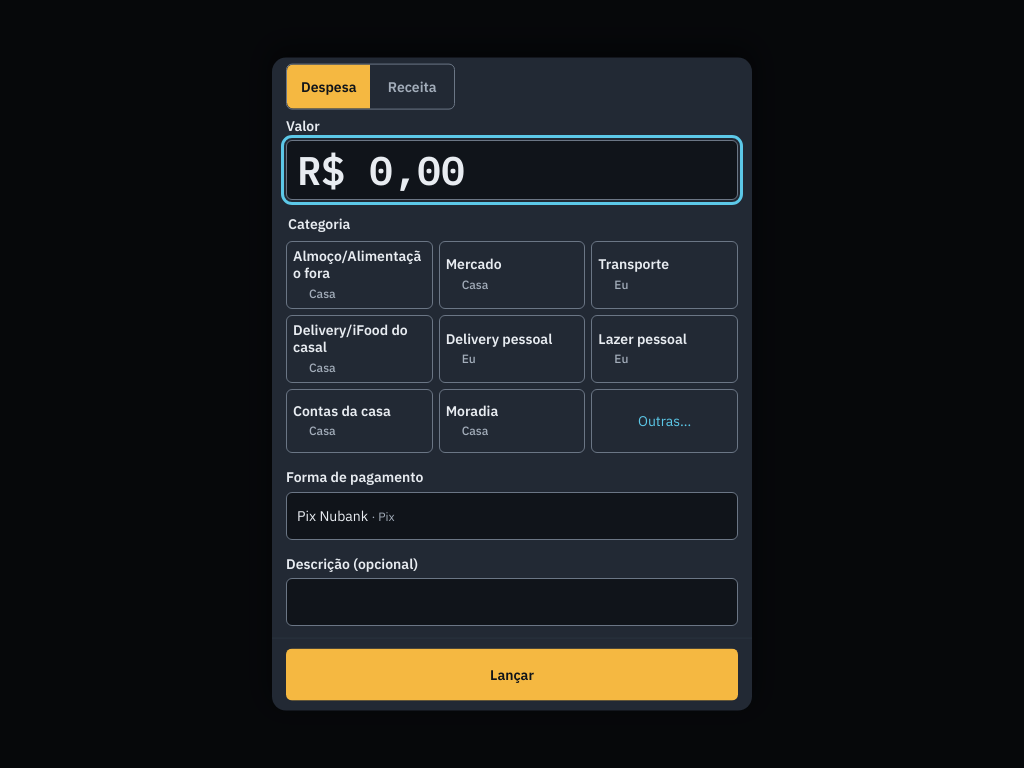
Scenario: FolhaLancar no modo receita › sem conexão: AvisoErroTopo com o texto exato e valor, categoria e conta mantidos
Click the radio button labelled "Receita". click: (412, 86)
box: x1=388 y1=77 x2=436 y2=95
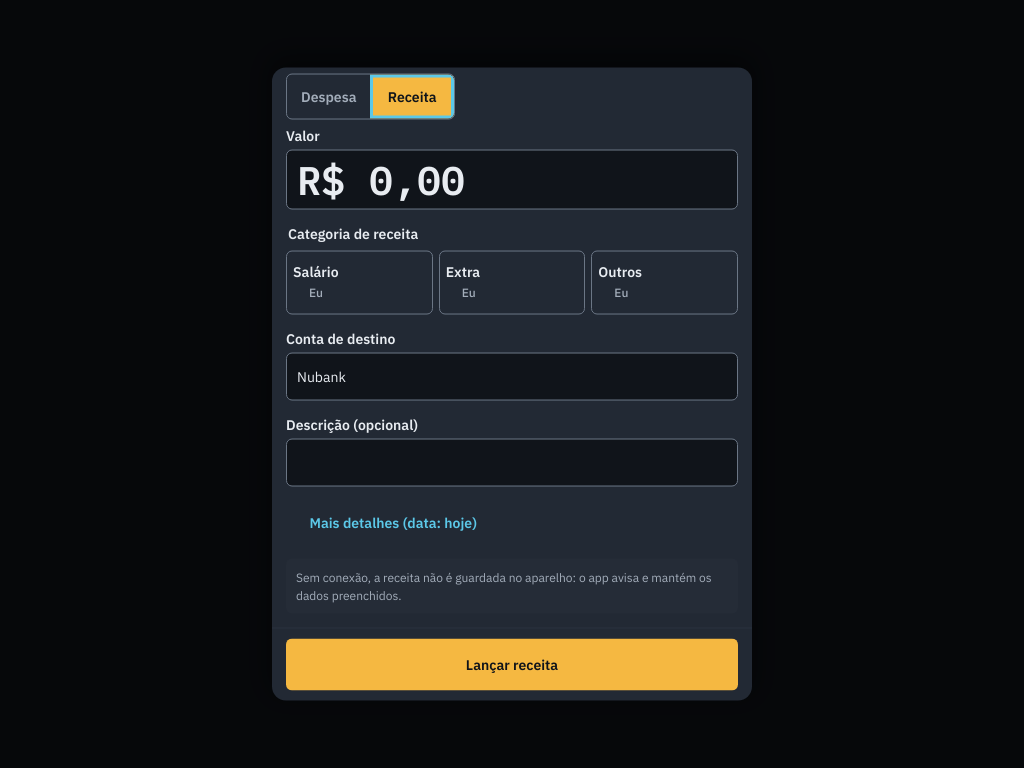
Click the field labelled "Valor". click: (512, 180)
box: x1=286 y1=150 x2=738 y2=210
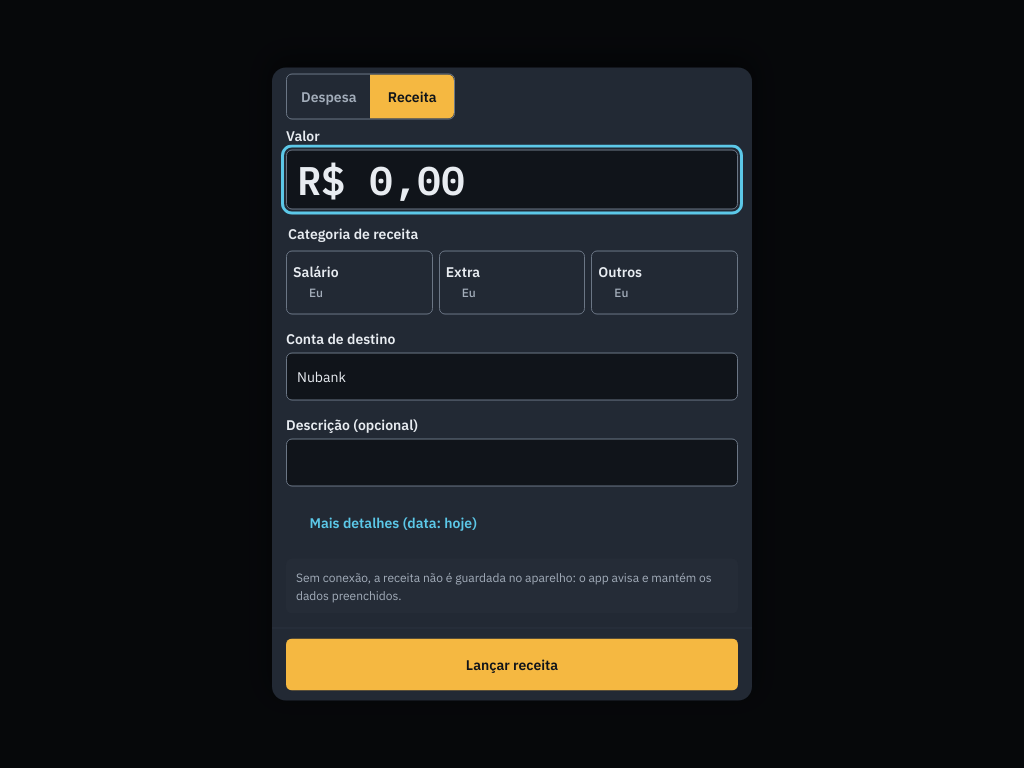
Type keys "750000"
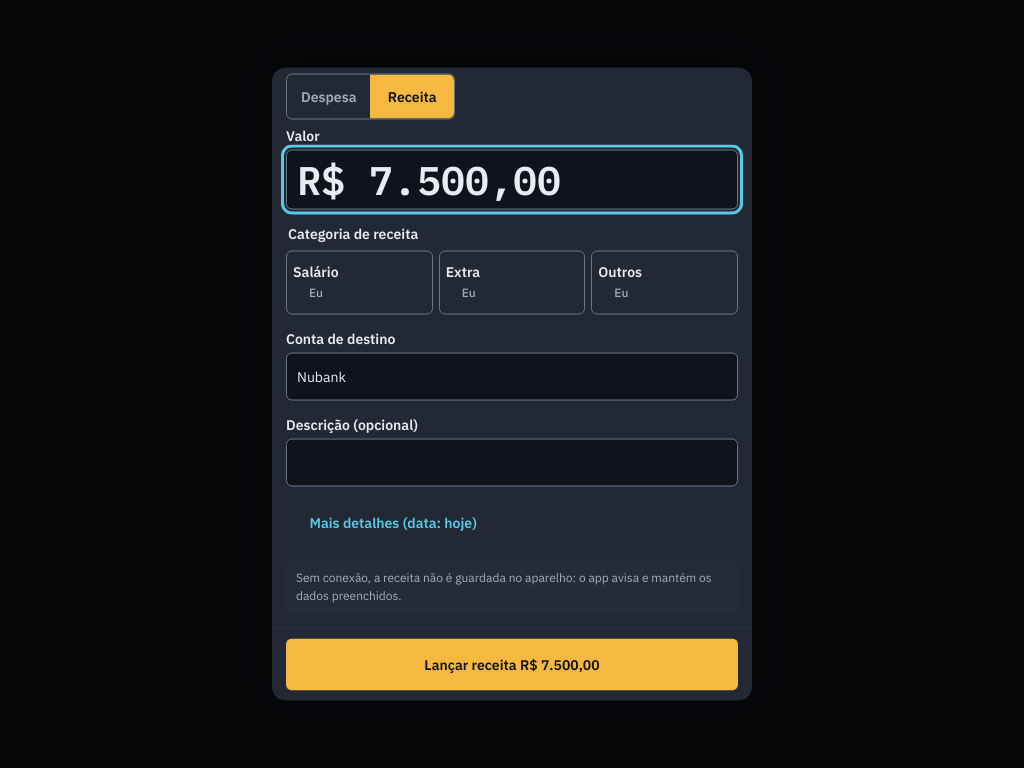
Click the radio button labelled "Salário Eu". click: (359, 282)
box: x1=286 y1=250 x2=433 y2=314
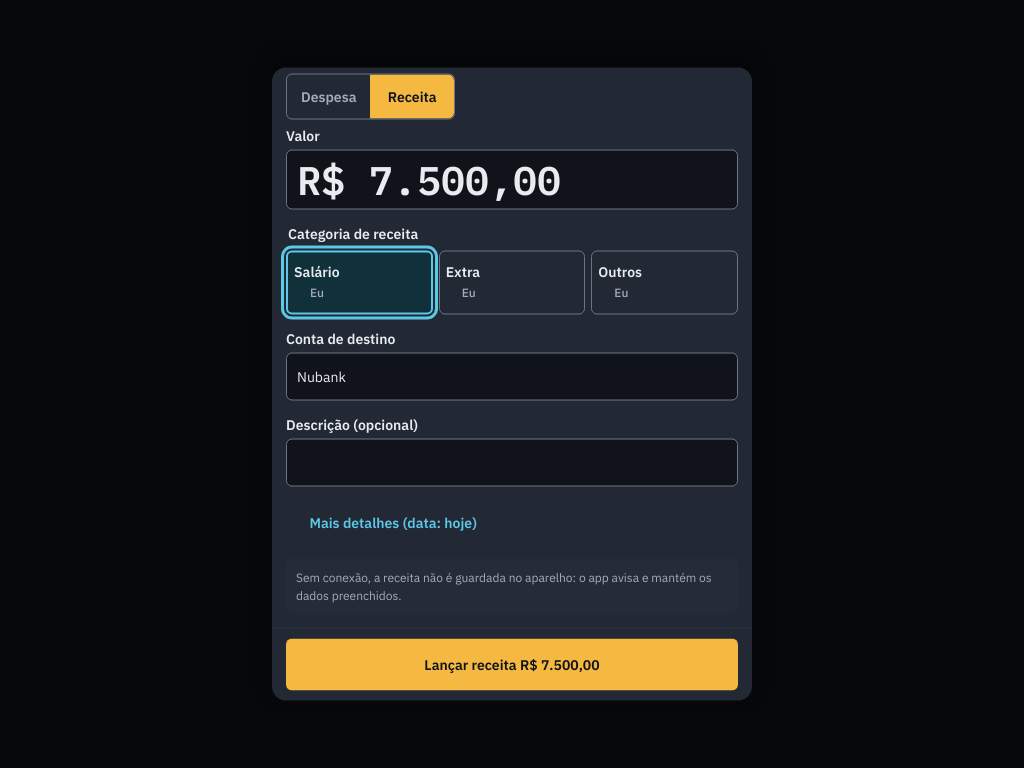
Click the button "Lançar receita R$ 7.500,00". click: (512, 664)
box: x1=286 y1=638 x2=738 y2=690
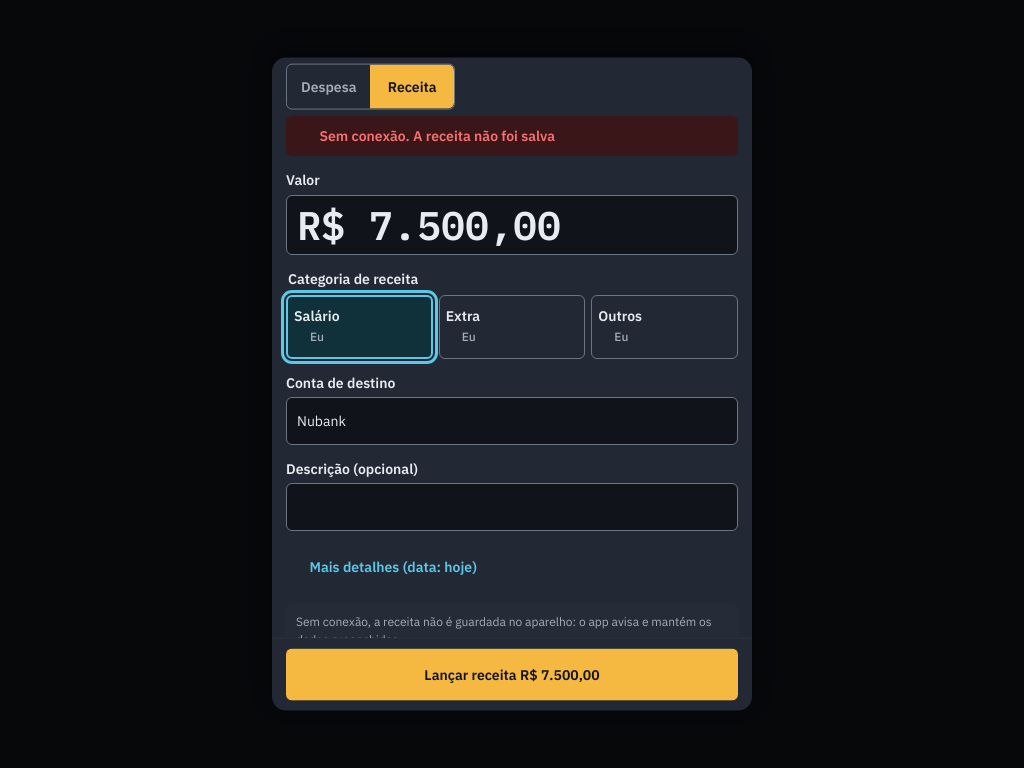
Now the radio button labelled "Salário Eu" is checked, box x1=286 y1=294 x2=433 y2=358
Now the field labelled "Valor" holds "7\\.500,00", box x1=286 y1=194 x2=738 y2=254
Now the message reads "Sem conexão. A receita não foi salva", box x1=320 y1=127 x2=555 y2=145
